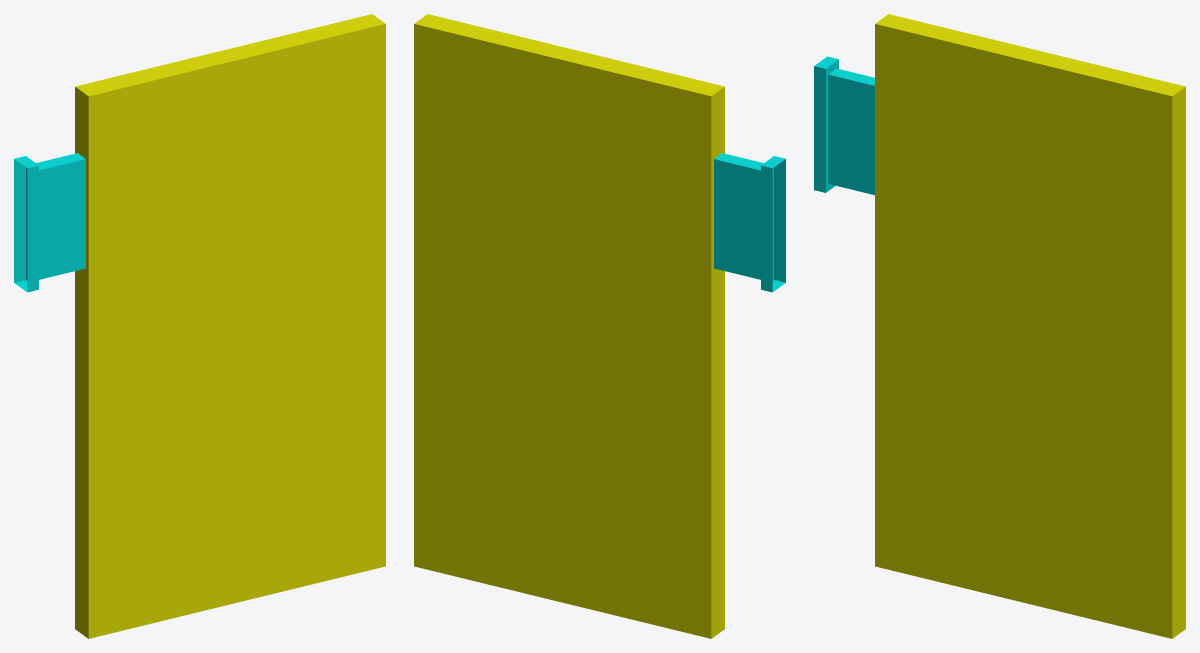
File: Billboard_Small.fbx
3 views of the same model, side by side, from view 1: azimuth 30°, elevation 25°; view 2: azimuth 150°, elevation 25°; view 3: azimuth 330°, elevation 25° (orthographic).
Visible parts, largest first — view 1: LOW_Accesorios_letrero_ch; view 2: LOW_Accesorios_letrero_ch; view 3: LOW_Accesorios_letrero_ch.
Part boxes in pixels (x1,y1,x2,y2): LOW_Accesorios_letrero_ch: [14, 14, 385, 638]; LOW_Accesorios_letrero_ch: [414, 14, 785, 638]; LOW_Accesorios_letrero_ch: [814, 14, 1185, 638].
Size of the model in its own units: 4.32 by 6.24 by 0.2811.
